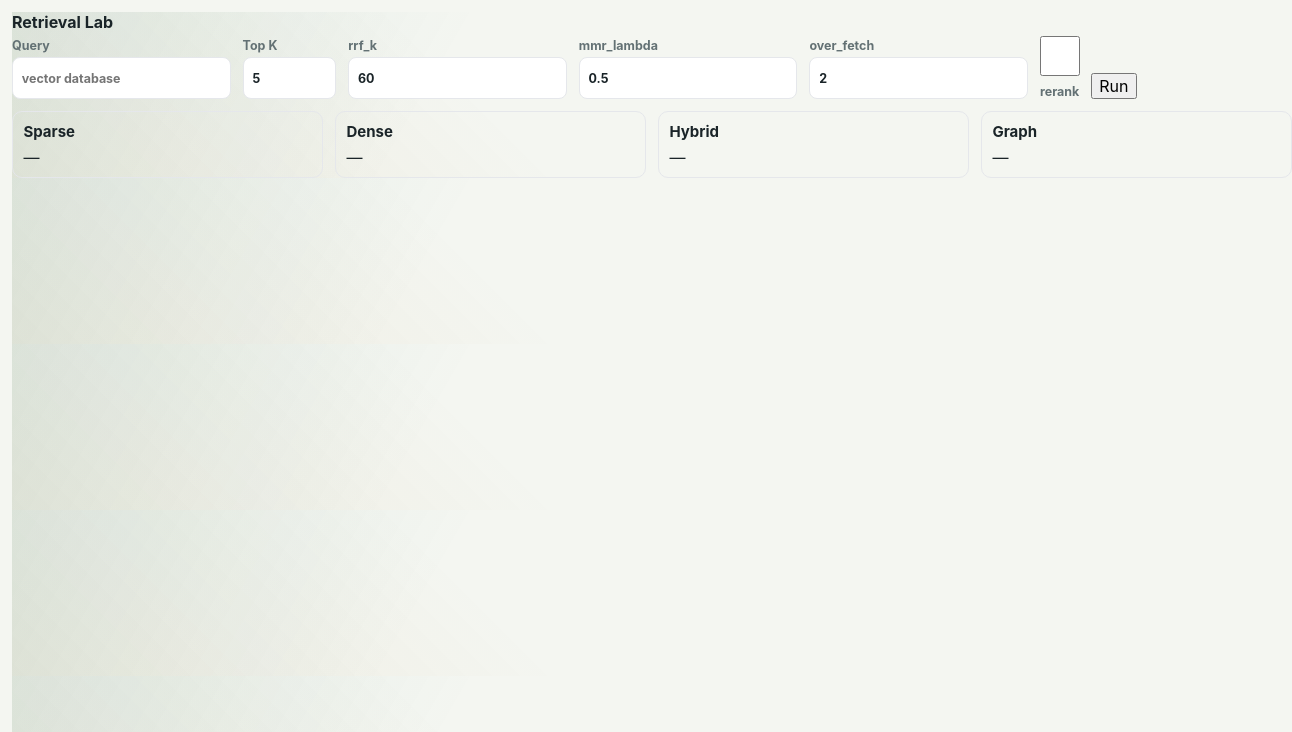
Test case: RetrievalLab › flags dense unavailable on 503
The image size is (1292, 732).
In the field labelled "Query": (121, 78) [12,57,231,99], type "q"
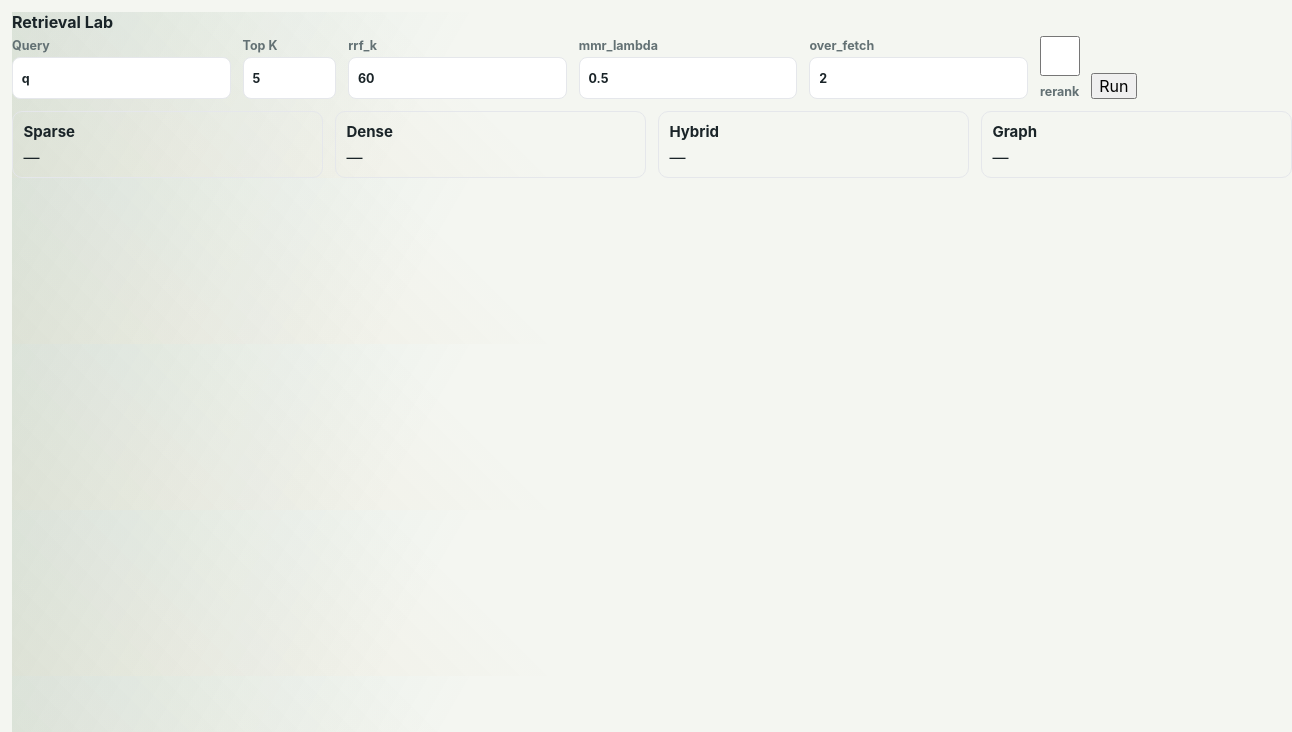
Click the button "Run": (1114, 86) [1091,73,1136,99]
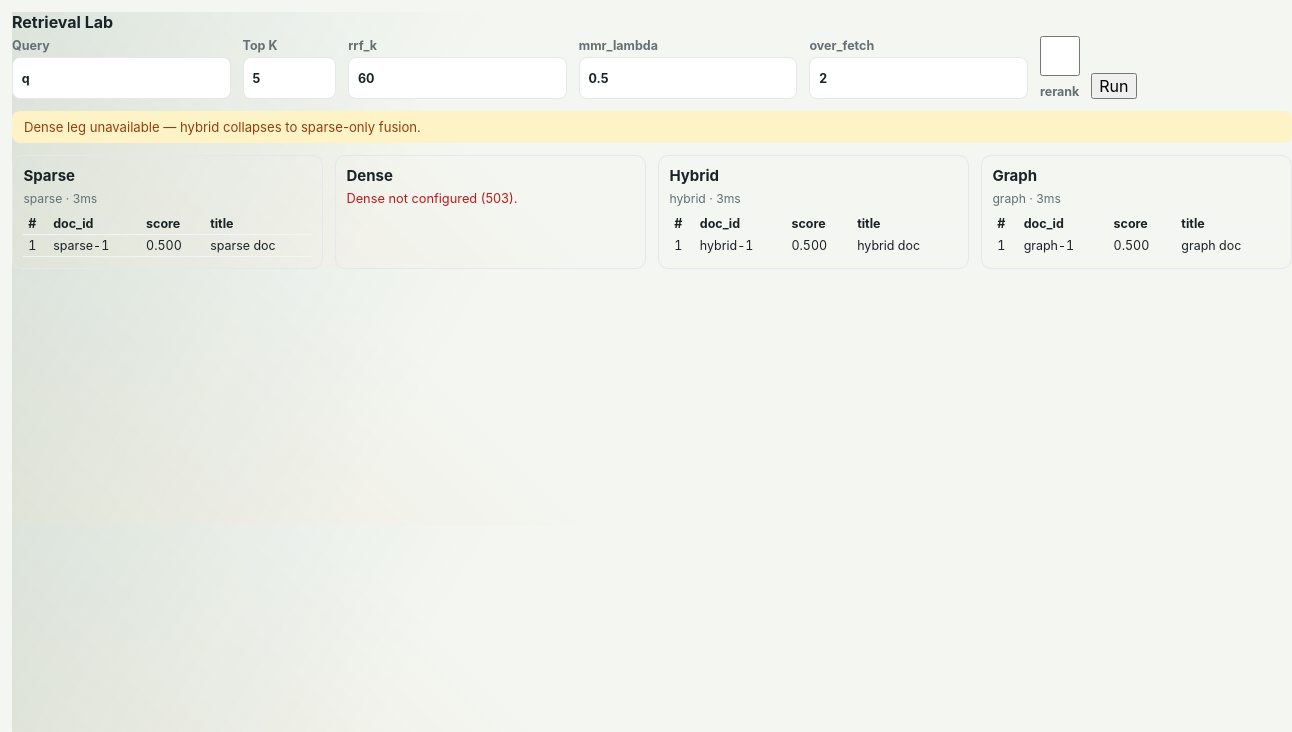
Expected: the text "Dense leg unavailable" is shown, [24,119,421,135]
